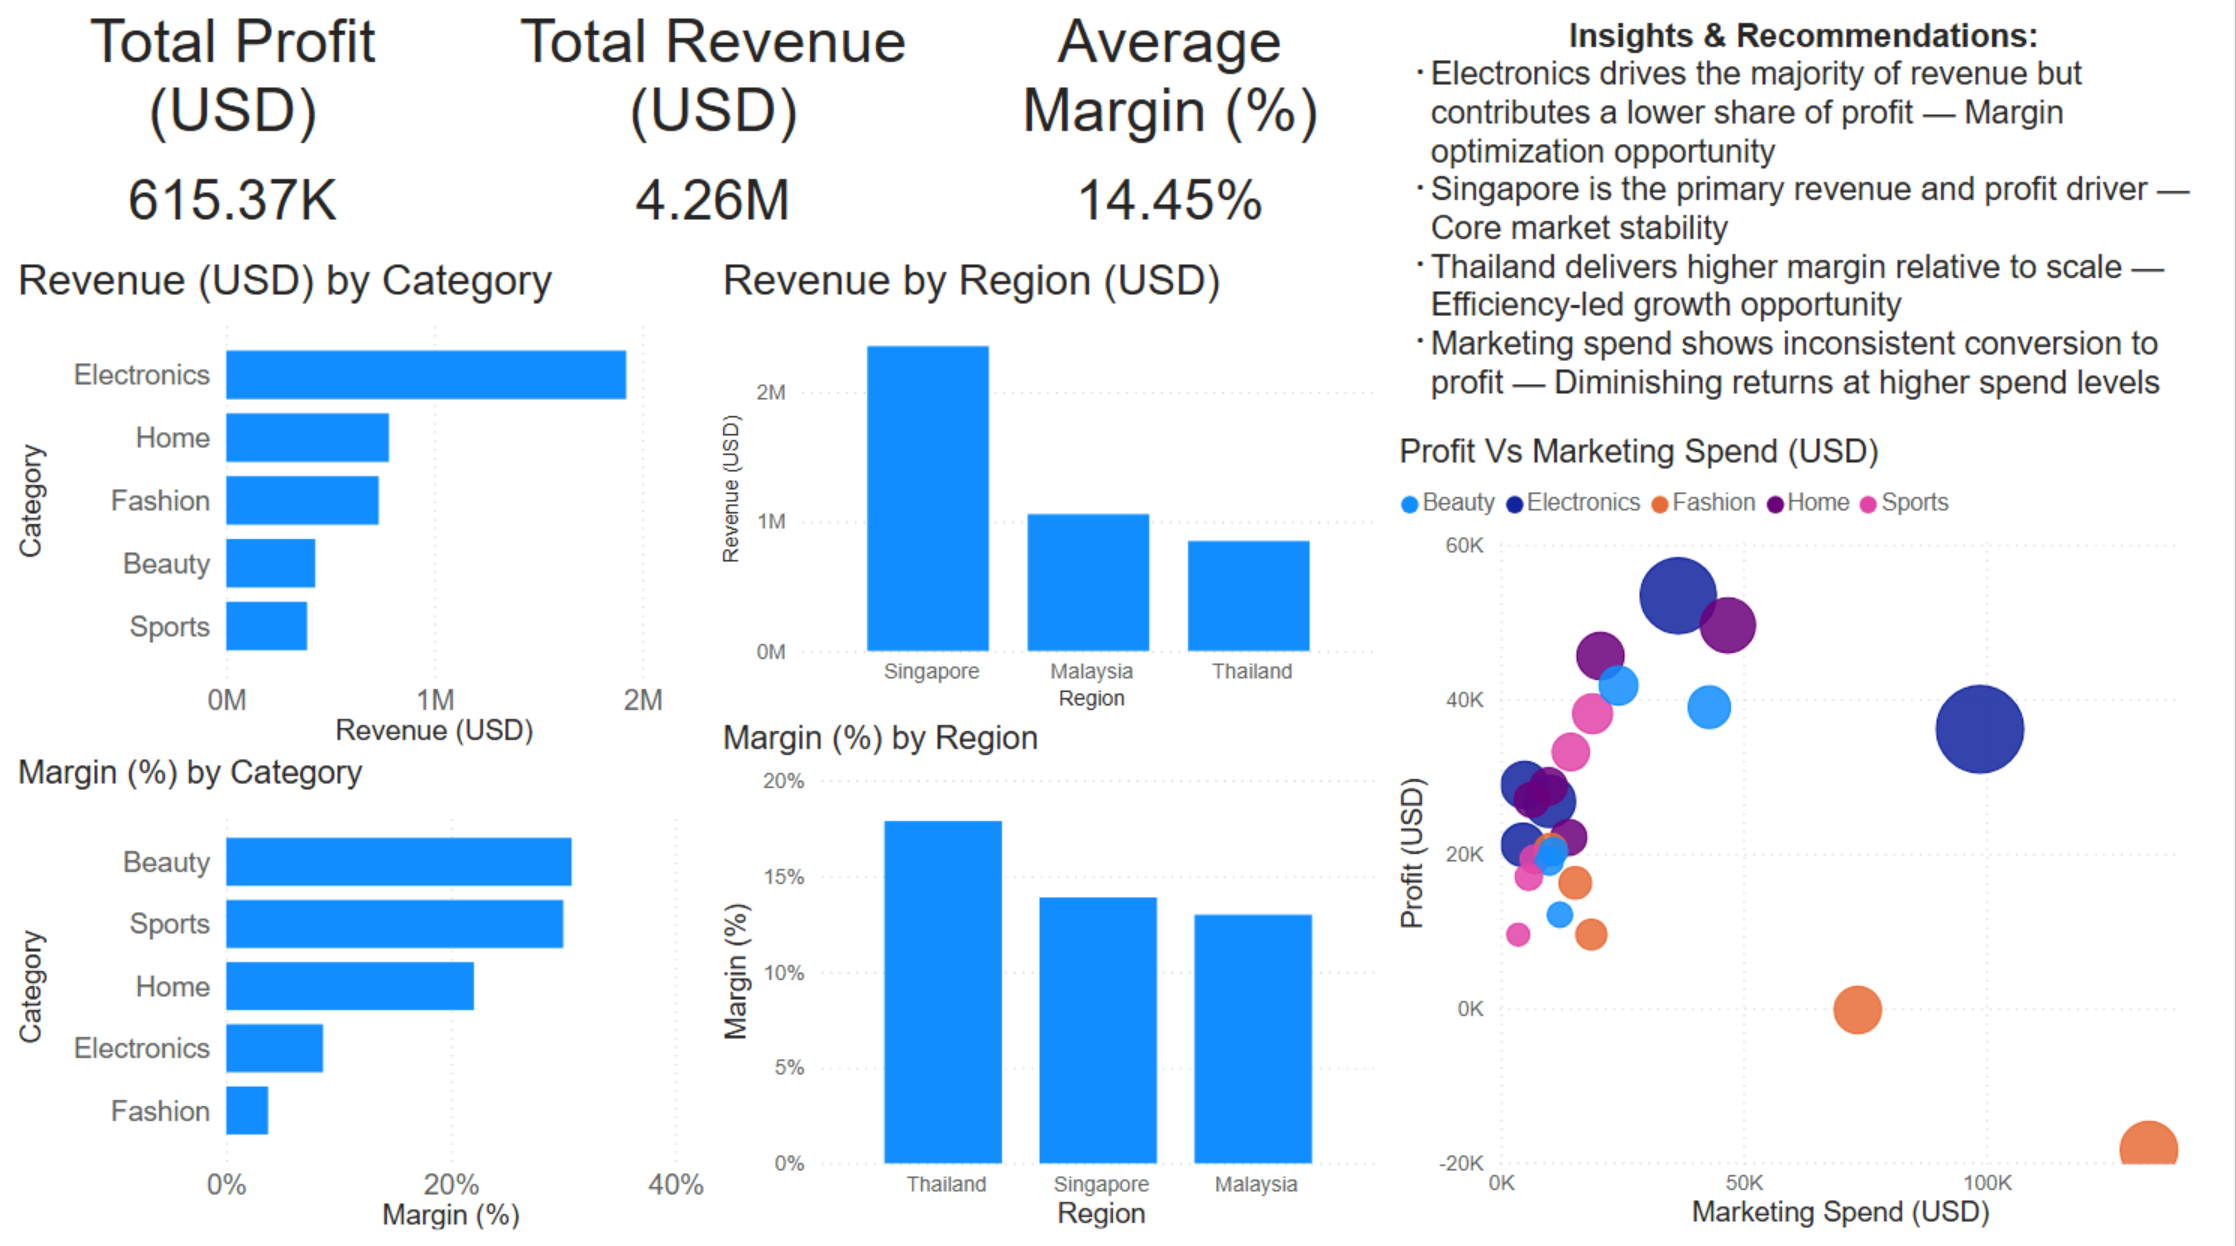

What the dashboard file says about the page in this screenshot:
{"tool":"powerbi","page":{"name":"Overview","canvas":[1280,720],"ordinal":0},"visuals":[{"type":"card","title":"Total Profit (USD)","fields":{"Values":["Sum(ecommerce_realistic_dataset_150_rows.Profit)"]},"box":[0,8.6,270.9,141.5],"z":0},{"type":"card","title":"Total Revenue (USD)","fields":{"Values":["Sum(ecommerce_realistic_dataset_150_rows.Revenue)"]},"box":[272.6,8.6,275.2,141.5],"z":1000},{"type":"card","title":"Average Margin (%)","fields":{"Values":["ecommerce_realistic_dataset_150_rows.Margin %"]},"box":[545.3,8.6,252.1,141.5],"z":2000},{"type":"barChart","title":"Revenue (USD) by Category","fields":{"Category":["ecommerce_realistic_dataset_150_rows.Category"],"Y":["ecommerce_realistic_dataset_150_rows.Total Revenue"]},"box":[8,150,379,285],"z":3000},{"type":"columnChart","title":"Revenue by Region (USD)","fields":{"Category":["ecommerce_realistic_dataset_150_rows.Region"],"Y":["ecommerce_realistic_dataset_150_rows.Total Revenue"]},"box":[411,150,386,265],"z":4000},{"type":"scatterChart","title":"Profit Vs Marketing Spend (USD) ","fields":{"Category":["ecommerce_realistic_dataset_150_rows.month name"],"X":["Sum(ecommerce_realistic_dataset_150_rows.Marketing_Spend)"],"Y":["Sum(ecommerce_realistic_dataset_150_rows.Profit)"],"Size":["Sum(ecommerce_realistic_dataset_150_rows.Revenue)"],"Series":["ecommerce_realistic_dataset_150_rows.Category"]},"box":[797.3,251.2,471.5,459.5],"z":5000},{"type":"textbox","box":[797.3,8.6,472.4,229.8],"z":6000},{"type":"barChart","title":"Margin (%) by Category","fields":{"Category":["ecommerce_realistic_dataset_150_rows.Category"],"Y":["ecommerce_realistic_dataset_150_rows.Margin %"]},"box":[7.7,434.7,402.9,276.9],"z":7000},{"type":"columnChart","title":"Margin (%) by Region","fields":{"Category":["ecommerce_realistic_dataset_150_rows.Region"],"Y":["ecommerce_realistic_dataset_150_rows.Margin %"]},"box":[411,415,386,296],"z":8000}]}

Visuals, with their boxes in screenshot pixels (x1, y1, x2, y2), scaled from the page's 1280x720 canvas onto the 2236x1246 screenshot:
"Total Profit (USD)" card: box(0, 15, 473, 260)
"Total Revenue (USD)" card: box(476, 15, 957, 260)
"Average Margin (%)" card: box(953, 15, 1393, 260)
"Revenue (USD) by Category" barChart: box(14, 260, 676, 753)
"Revenue by Region (USD)" columnChart: box(718, 260, 1392, 718)
"Profit Vs Marketing Spend (USD) " scatterChart: box(1393, 435, 2216, 1230)
textbox: box(1393, 15, 2218, 413)
"Margin (%) by Category" barChart: box(13, 752, 717, 1231)
"Margin (%) by Region" columnChart: box(718, 718, 1392, 1230)
